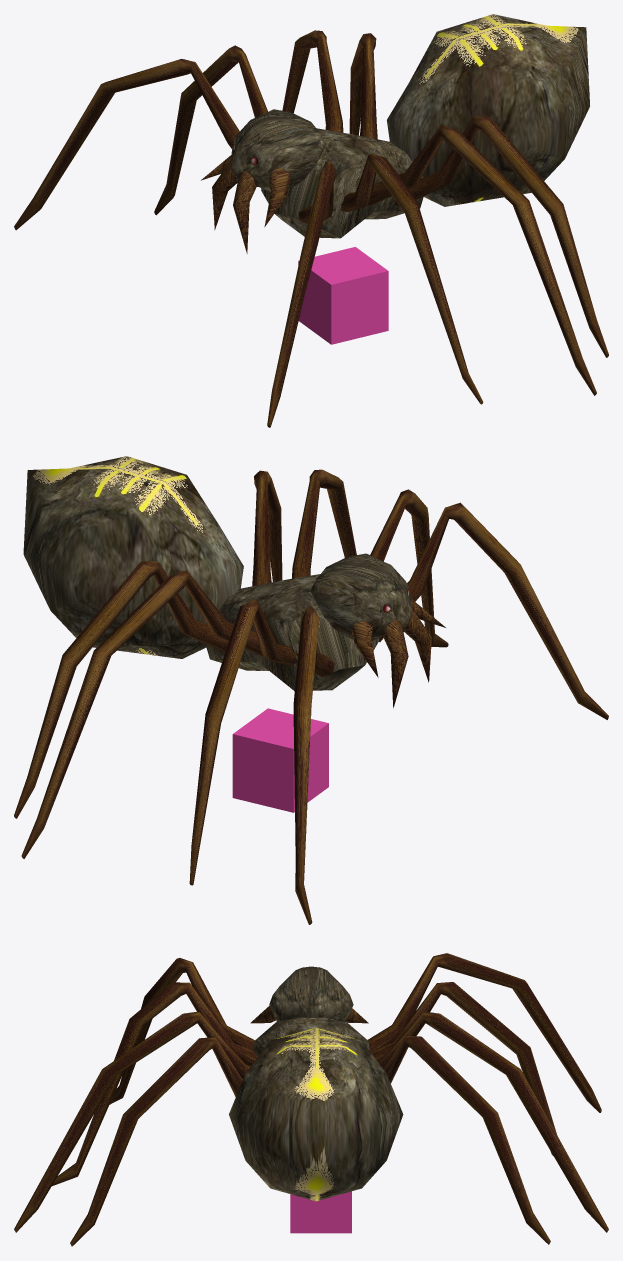
Rendered from spider_pink_cube_light.glb.
The picture shows the model from 3 angles, top to bottom: view 1: azimuth 30°, elevation 25°; view 2: azimuth 150°, elevation 25°; view 3: azimuth 270°, elevation 25°; orthographic projection. The views are drawn at different scales.
Parts seen in each view (by area): view 1: Spider, Cube; view 2: Spider, Cube; view 3: Spider, Cube.
Boxes of the visible parts, <box> form: Spider: <box>14,14,608,427</box>; Cube: <box>298,247,388,344</box>; Spider: <box>14,456,608,924</box>; Cube: <box>232,708,328,812</box>; Spider: <box>14,953,608,1246</box>; Cube: <box>290,1191,351,1233</box>.
Size of the model in its own units: 151 by 87.81 by 193.
Materials: 5 (4 with a texture image).
